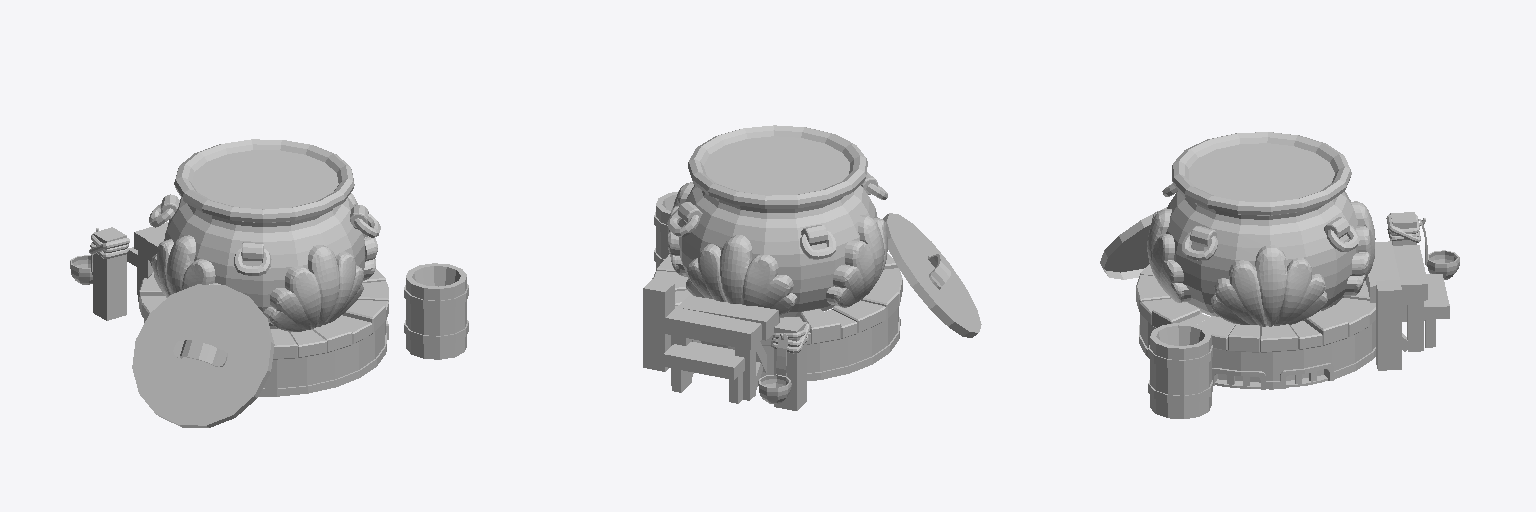
The model's file is FishSoup_Pot.obj.
3 renders of one model, left to right at view 1: azimuth 30°, elevation 25°; view 2: azimuth 150°, elevation 25°; view 3: azimuth 270°, elevation 25°, orthographic.
Visible parts, largest first — view 1: Plane.008; view 2: Plane.008; view 3: Plane.008.
Part boxes in pixels (bbox=[...]): Plane.008: bbox=[70, 139, 468, 427]; Plane.008: bbox=[643, 125, 981, 410]; Plane.008: bbox=[1100, 132, 1459, 418].
Size of the model in its own units: 4.45 by 2.37 by 4.36.